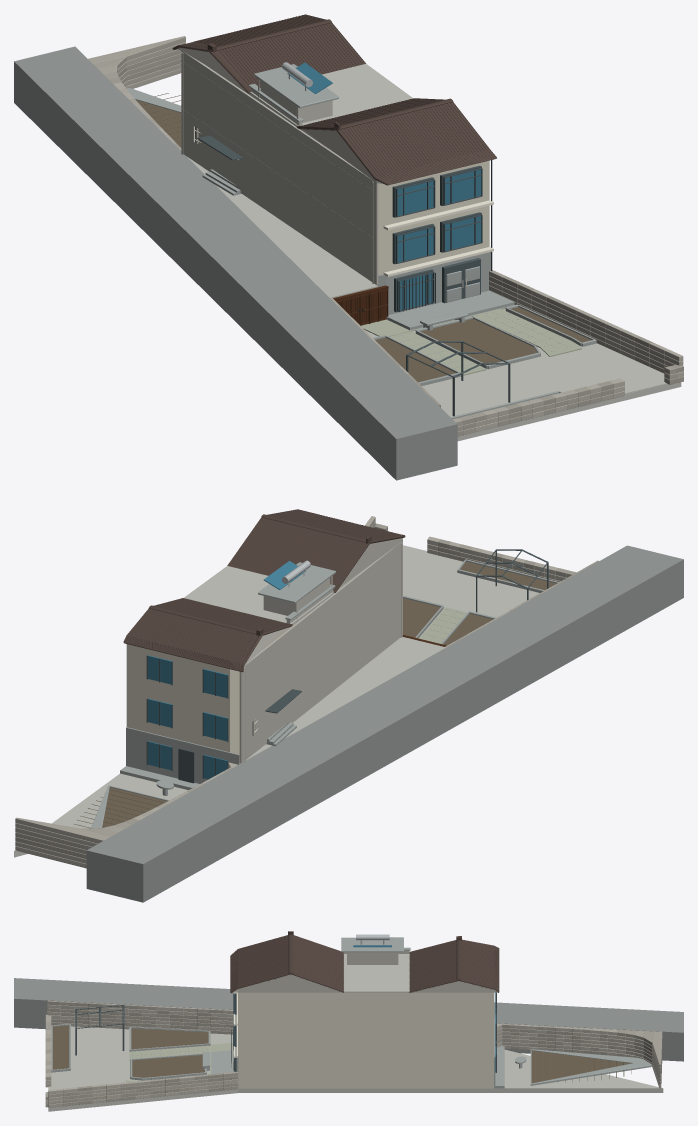
Rendered from home.glb.
3 views of the same model, one above another, from view 1: azimuth 30°, elevation 25°; view 2: azimuth 150°, elevation 25°; view 3: azimuth 270°, elevation 25° (orthographic). The views are drawn at different scales.
Visible parts, largest first — view 1: Road concrete, Roadside fine grey plaster, Clean concrete, V6 muted dark clay tiles, Grey marble ground floor, Dark aluminium, Planting soil, Blue reflective glazing, Warm ivory facade, Sage paving, Granite 1, Granite 2 (+5 smaller); view 2: Road concrete, Roadside fine grey plaster, V6 muted dark clay tiles, Clean concrete, Warm ivory facade, Grey marble ground floor, Planting soil, Blue reflective glazing, Dark aluminium, Granite 2, Granite 1, Granite 3 (+3 smaller); view 3: Warm ivory facade, Clean concrete, Road concrete, V6 muted dark clay tiles, Planting soil, Grey marble ground floor, Granite 3, Granite 1, Granite 0, Granite 4, Granite 2, Roadside fine grey plaster (+2 smaller).
Part boxes in pixels (x1=…): Road concrete: x1=14, y1=46, x2=457, y2=480; Roadside fine grey plaster: x1=177, y1=47, x2=383, y2=285; Clean concrete: x1=187, y1=64, x2=681, y2=441; V6 muted dark clay tiles: x1=172, y1=14, x2=496, y2=185; Grey marble ground floor: x1=126, y1=62, x2=596, y2=419; Dark aluminium: x1=194, y1=126, x2=510, y2=416; Planting soil: x1=136, y1=93, x2=591, y2=382; Blue reflective glazing: x1=287, y1=62, x2=481, y2=310; Warm ivory facade: x1=207, y1=66, x2=489, y2=285; Sage paving: x1=361, y1=305, x2=581, y2=375; Granite 1: x1=93, y1=49, x2=676, y2=436; Granite 2: x1=88, y1=36, x2=683, y2=434; Road concrete: x1=86, y1=545, x2=683, y2=902; Roadside fine grey plaster: x1=239, y1=538, x2=402, y2=763; V6 muted dark clay tiles: x1=123, y1=509, x2=405, y2=672; Clean concrete: x1=14, y1=545, x2=539, y2=857; Warm ivory facade: x1=126, y1=567, x2=367, y2=756; Grey marble ground floor: x1=91, y1=552, x2=559, y2=828; Planting soil: x1=74, y1=561, x2=556, y2=828; Blue reflective glazing: x1=148, y1=561, x2=305, y2=779; Dark aluminium: x1=146, y1=549, x2=548, y2=783; Granite 2: x1=15, y1=521, x2=544, y2=863; Granite 1: x1=15, y1=524, x2=587, y2=854; Granite 3: x1=15, y1=547, x2=565, y2=868; Warm ivory facade: x1=238, y1=992, x2=494, y2=1088; Clean concrete: x1=48, y1=954, x2=663, y2=1111; Road concrete: x1=14, y1=978, x2=683, y2=1061; V6 muted dark clay tiles: x1=230, y1=931, x2=499, y2=993; Planting soil: x1=52, y1=1025, x2=631, y2=1083; Grey marble ground floor: x1=51, y1=937, x2=651, y2=1088; Granite 3: x1=45, y1=1003, x2=662, y2=1107; Granite 1: x1=45, y1=1001, x2=662, y2=1106; Granite 0: x1=45, y1=1000, x2=662, y2=1107; Granite 4: x1=45, y1=1006, x2=651, y2=1103; Granite 2: x1=48, y1=1005, x2=662, y2=1101; Roadside fine grey plaster: x1=231, y1=950, x2=497, y2=993.
Bounding box in the file's own units: 22.42 × 12.46 × 60.09.
